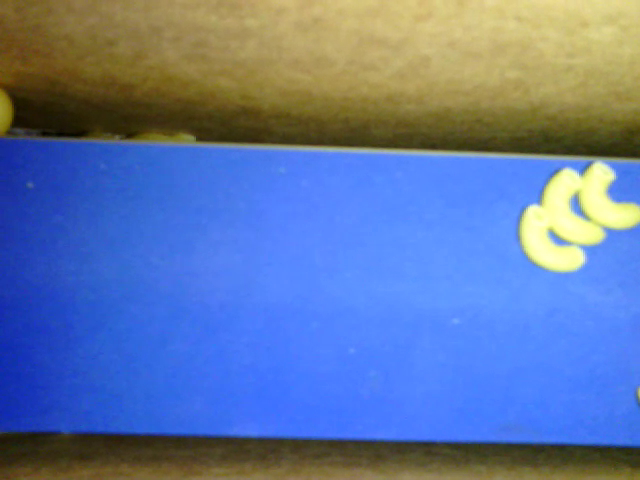elbow: (538, 167, 610, 251), (518, 205, 585, 277), (576, 162, 639, 231)
